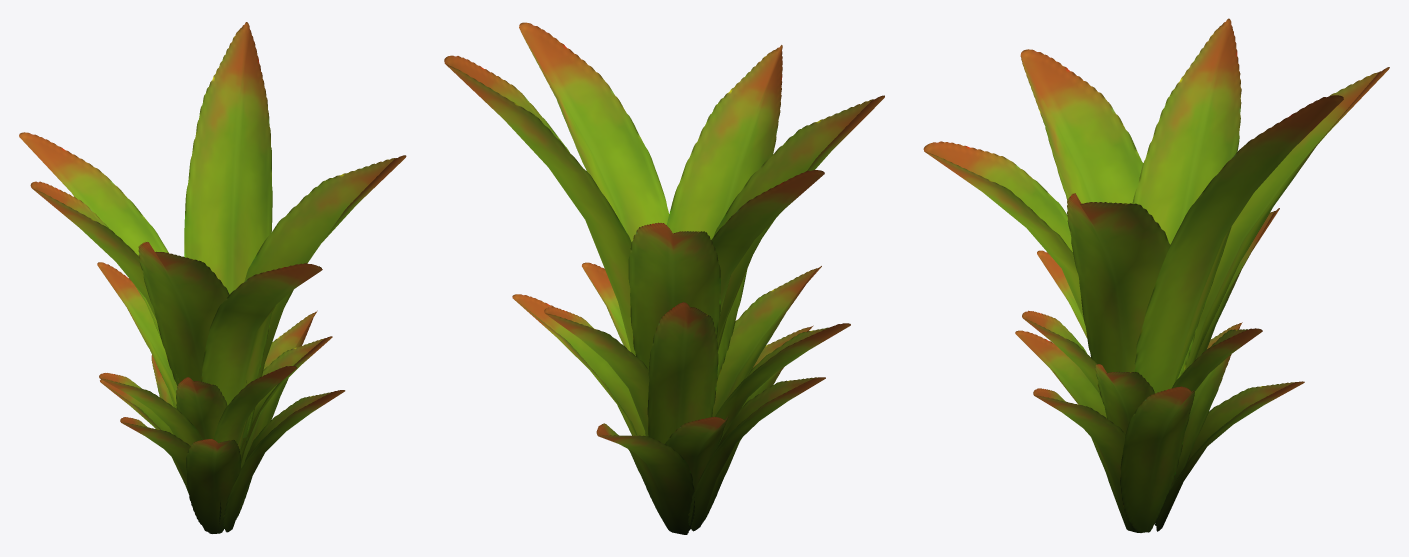
File: plant_1_big.glb
3 views of the same model, side by side, from view 1: azimuth 30°, elevation 25°; view 2: azimuth 150°, elevation 25°; view 3: azimuth 270°, elevation 25° (orthographic). The views are drawn at different scales.
Visible parts, largest first — view 1: Plant_1_Big; view 2: Plant_1_Big; view 3: Plant_1_Big.
Boxes of the visible parts, x1,y1,x2,y2 form: Plant_1_Big: [19, 22, 406, 533]; Plant_1_Big: [444, 22, 884, 534]; Plant_1_Big: [923, 18, 1389, 532].
Bounding box in the file's own units: 1.81 × 2.35 × 1.95.
1 material, 1 textured.
